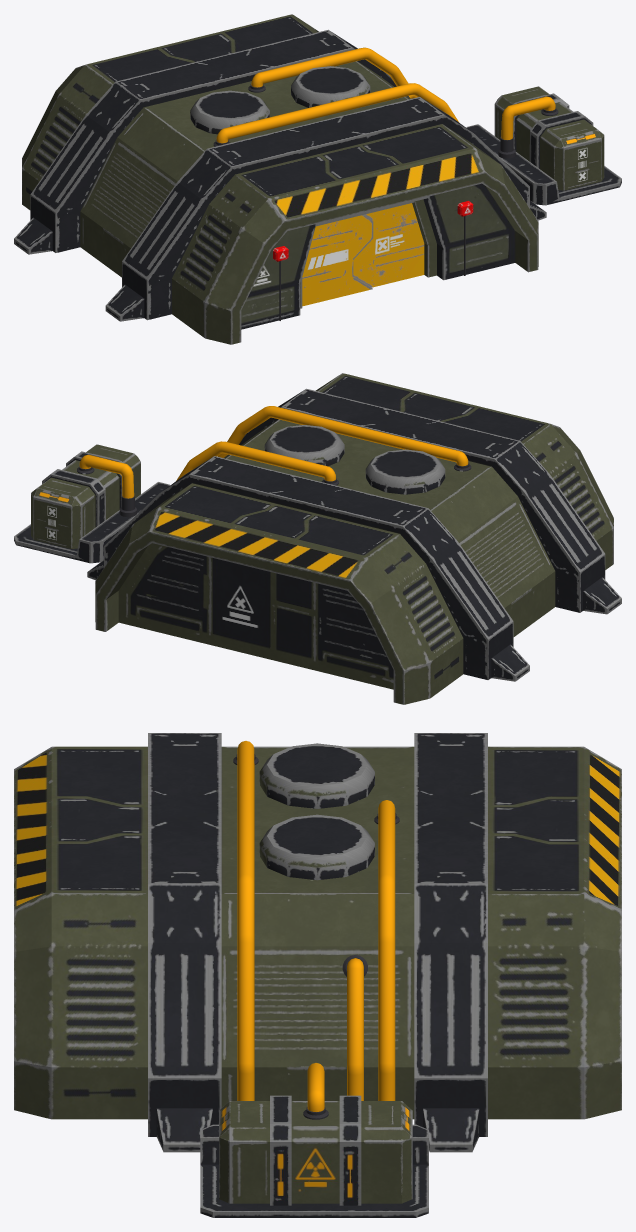
The picture shows the model from 3 angles, top to bottom: view 1: azimuth 30°, elevation 25°; view 2: azimuth 150°, elevation 25°; view 3: azimuth 270°, elevation 25°; orthographic projection. The views are drawn at different scales.
Visible parts, largest first — view 1: build, door_panel_left, door_panel_right; view 2: build; view 3: build.
Part boxes in pixels (x1,y1,x2,y2): build: (14, 14, 621, 344); door_panel_left: (302, 215, 373, 306); door_panel_right: (353, 203, 424, 287); build: (14, 373, 621, 704); build: (14, 733, 621, 1217).
Size of the model in its own units: 2 by 0.5141 by 1.4.
Materials: 3 (3 with a texture image).
